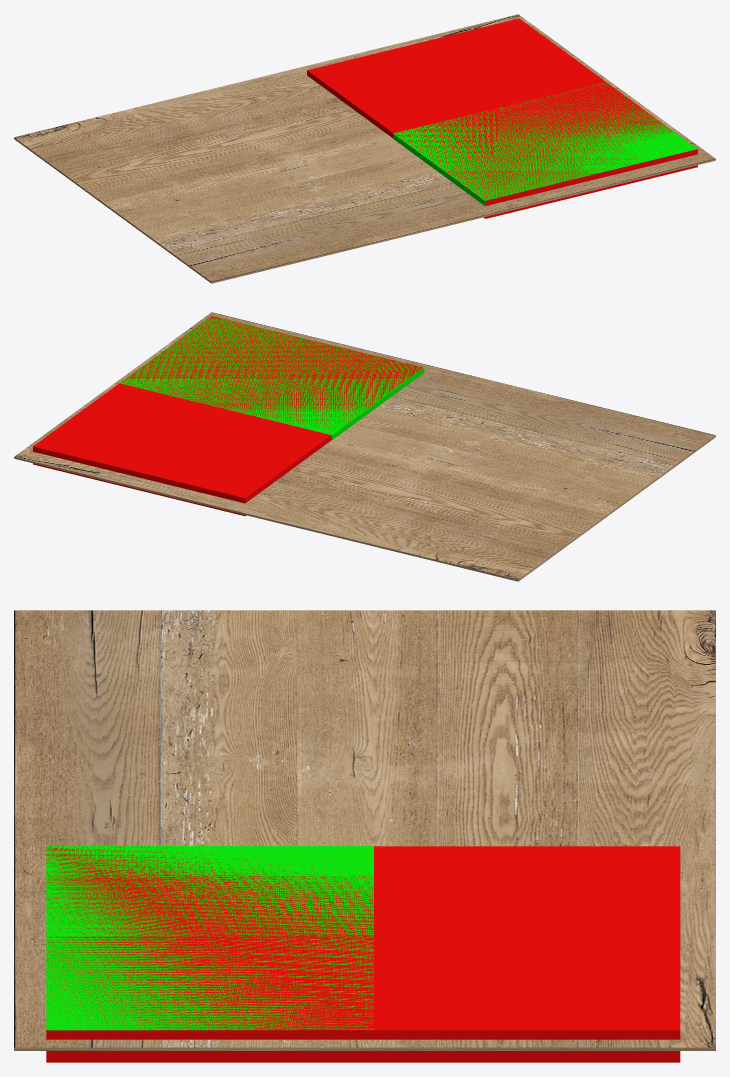
File: PlaqueModelExport.fbx
The picture shows the model from 3 angles, top to bottom: view 1: azimuth 30°, elevation 25°; view 2: azimuth 150°, elevation 25°; view 3: azimuth 270°, elevation 25°; orthographic projection. The views are drawn at different scales.
Parts seen in each view (by area): view 1: Plaque_Wood, Cube_Grand, Cube_Petit; view 2: Plaque_Wood, Cube_Grand, Cube_Petit; view 3: Plaque_Wood, Cube_Grand, Cube_Petit.
Part boxes in pixels (x1,y1,x2,y2): Plaque_Wood: (14, 14, 715, 283); Cube_Grand: (307, 18, 697, 218); Cube_Petit: (393, 83, 697, 218); Plaque_Wood: (14, 312, 715, 581); Cube_Grand: (33, 316, 422, 516); Cube_Petit: (120, 316, 424, 439); Plaque_Wood: (14, 610, 715, 1050); Cube_Grand: (46, 846, 680, 1062); Cube_Petit: (46, 846, 373, 1030).
Size of the model in its own units: 87.5 by 3 by 59.38.
